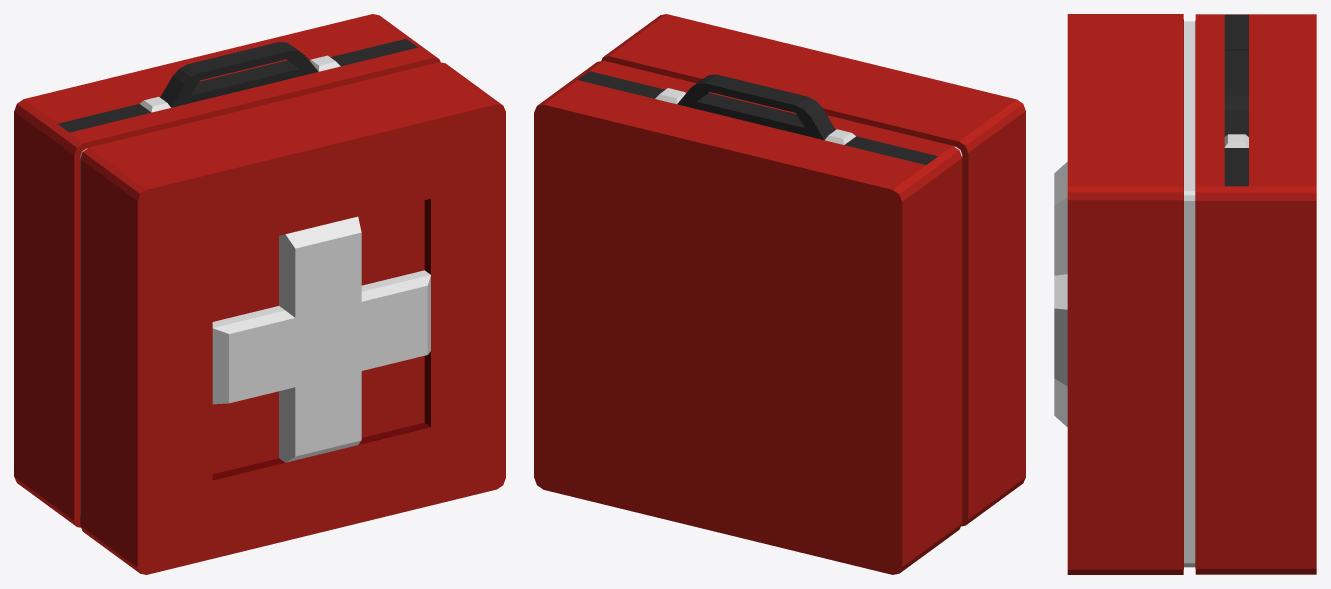
Rendered from First_Aid_Type001.fbx.
3 views of the same model, side by side, from view 1: azimuth 30°, elevation 25°; view 2: azimuth 150°, elevation 25°; view 3: azimuth 270°, elevation 25° (orthographic).
Parts seen in each view (by area): view 1: Cube; view 2: Cube; view 3: Cube.
Part boxes in pixels (x1,y1,x2,y2): Cube: (14,14,505,574); Cube: (534,14,1025,574); Cube: (1054,14,1316,574).
Size of the model in its own units: 200 by 214 by 123.
